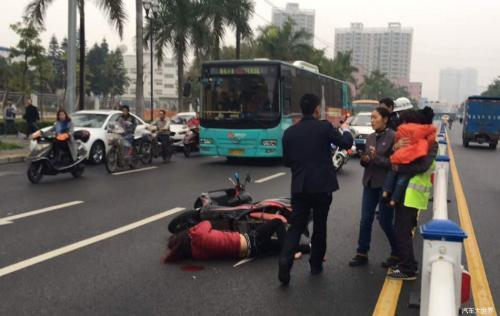Fall-Detected: (158, 207, 297, 270)
